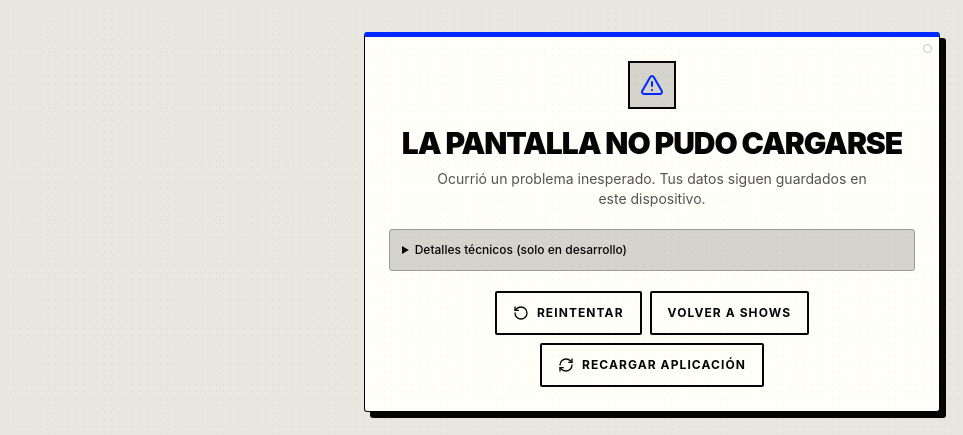
ErrorBoundary › 15. "Reintentar" re-renders the children instead of forcing a reload
Expected: the heading "La pantalla no pudo cargarse" is shown, [389,125,915,161]
Click the button "Reintentar" at (568, 313), box [495,291,642,335]
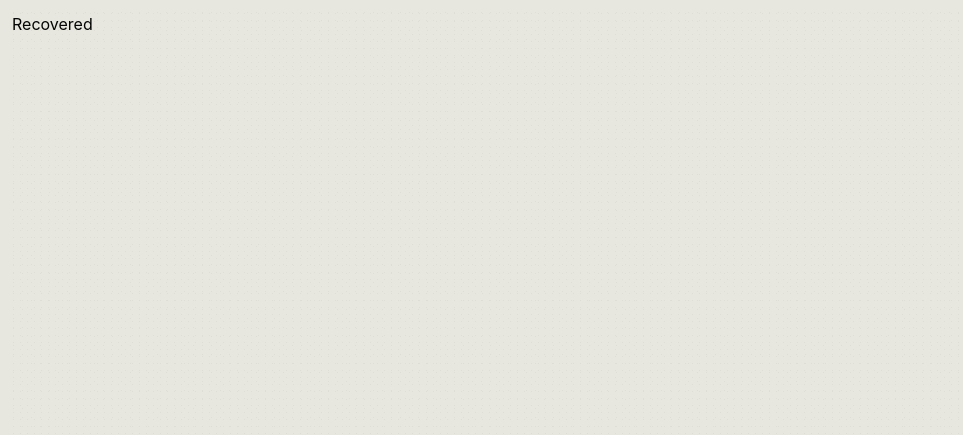
Expected: the text "Recovered" is shown, [12,14,93,34]
